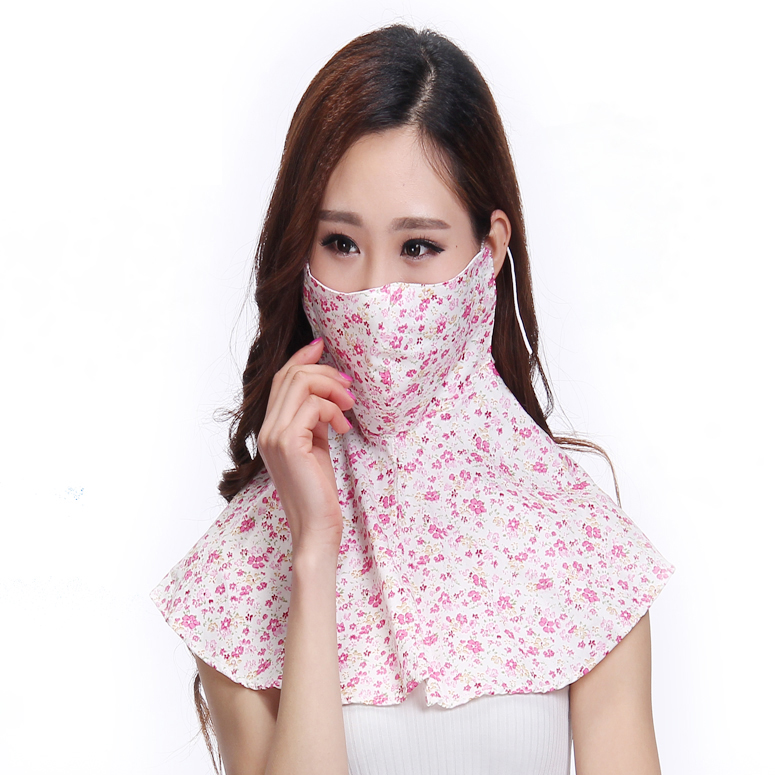face_mask: (302, 129, 482, 389)
